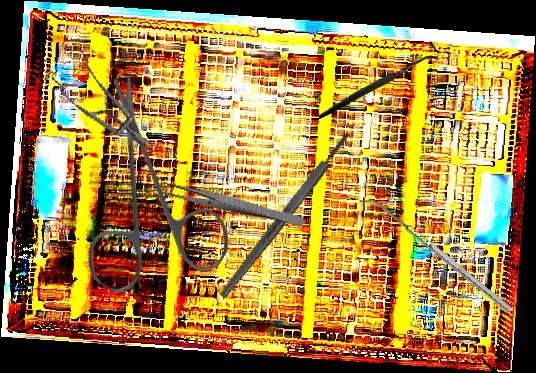Dressing Forceps: (161, 180, 307, 229)
Hook Surgical: (317, 40, 439, 120)
Iris Scissors: (16, 70, 279, 333)
Scalpel Handle: (217, 131, 353, 300)
Spatula Surgical: (359, 191, 513, 319)
Speculum: (33, 38, 169, 147)
